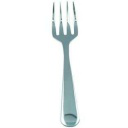fork: (49, 1, 86, 128)
